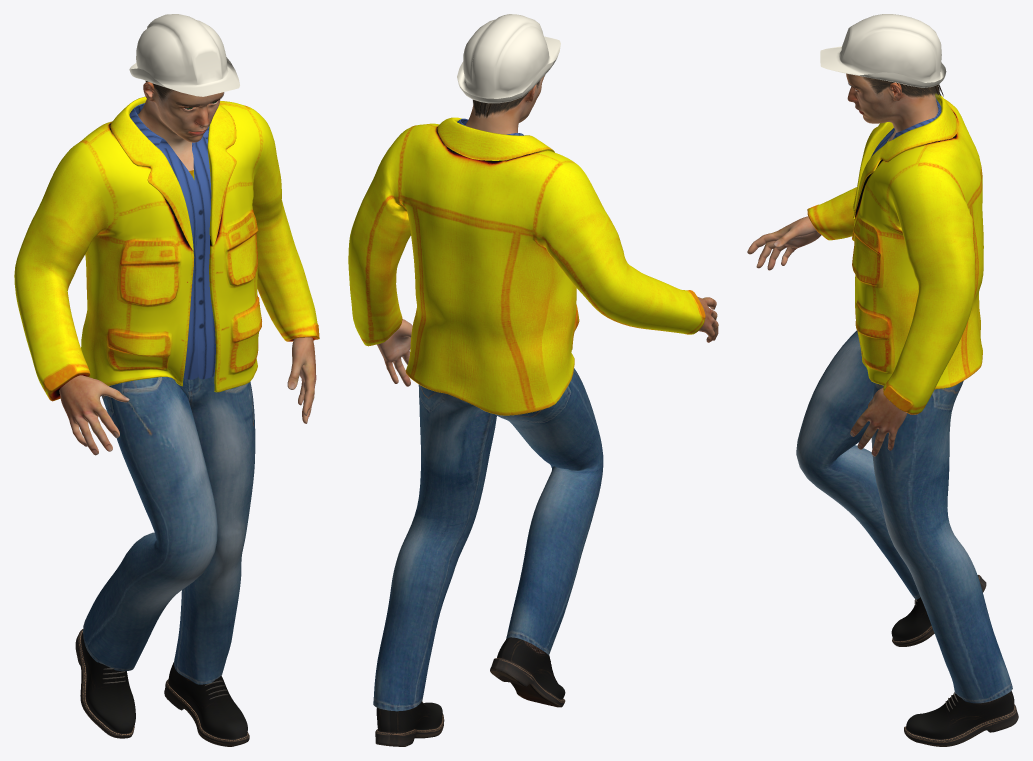
File: male_worker_yellowjacket.glb
3 renders of one model, left to right at view 1: azimuth 30°, elevation 25°; view 2: azimuth 150°, elevation 25°; view 3: azimuth 270°, elevation 25°, orthographic. The views are drawn at different scales.
Visible parts, largest first — view 1: FbxMesh.004, FbxMesh, FbxMesh.005, FbxMesh.006; view 2: FbxMesh.004, FbxMesh.006, FbxMesh.005, FbxMesh, FbxMesh.001; view 3: FbxMesh.004, FbxMesh, FbxMesh.006, FbxMesh.005, FbxMesh.001.
Part boxes in pixels (left/top/right/bottom): FbxMesh.004: left=14, top=96, right=319, bottom=684; FbxMesh: left=59, top=82, right=316, bottom=455; FbxMesh.005: left=75, top=629, right=249, bottom=746; FbxMesh.006: left=129, top=14, right=239, bottom=96; FbxMesh.004: left=348, top=117, right=705, bottom=711; FbxMesh.006: left=457, top=14, right=560, bottom=103; FbxMesh.005: left=375, top=637, right=565, bottom=746; FbxMesh: left=377, top=75, right=718, bottom=386; FbxMesh.001: left=472, top=80, right=540, bottom=118; FbxMesh.004: left=796, top=93, right=1012, bottom=703; FbxMesh: left=747, top=73, right=938, bottom=456; FbxMesh.006: left=820, top=14, right=946, bottom=87; FbxMesh.005: left=891, top=575, right=1018, bottom=746; FbxMesh.001: left=861, top=76, right=943, bottom=98.
Size of the model in its own units: 0.7915 by 1.78 by 0.6333.
Materials: 7 (6 with a texture image).
